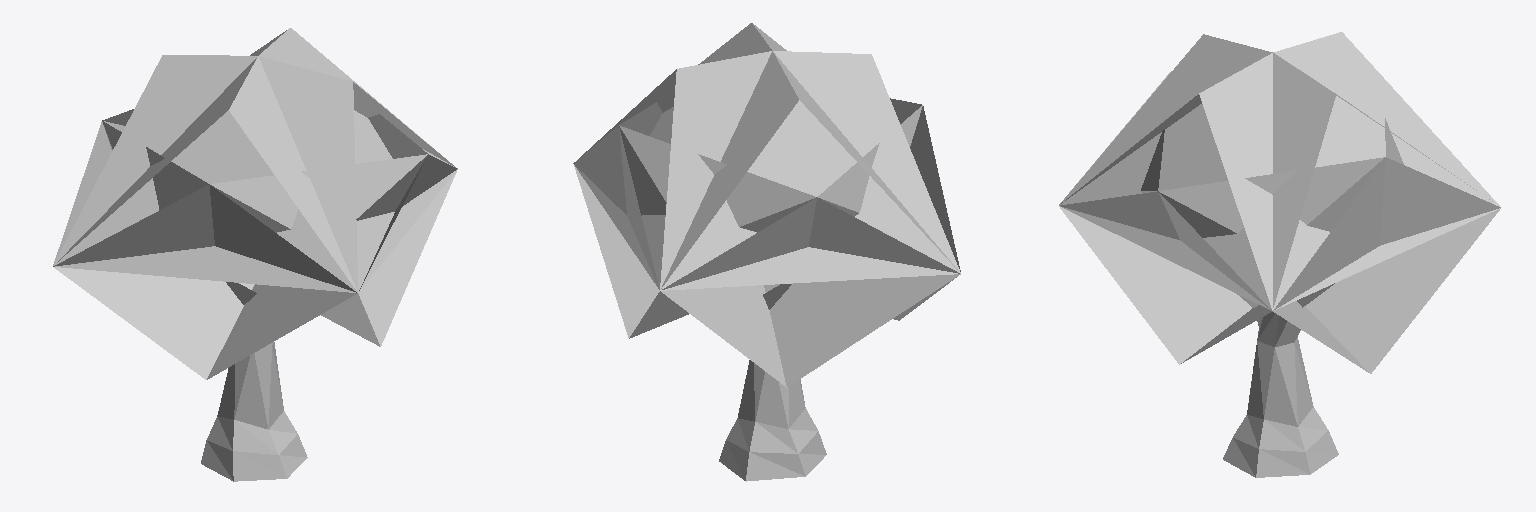
Rendered from elwynntreecanopy01.obj.
3 renders of one model, left to right at view 1: azimuth 30°, elevation 25°; view 2: azimuth 150°, elevation 25°; view 3: azimuth 270°, elevation 25°, orthographic.
Parts seen in each view (by area): view 1: object 1; view 2: object 1; view 3: object 1.
Boxes of the visible parts, x1,y1,x2,y2 form: object 1: [53, 28, 457, 481]; object 1: [573, 23, 960, 481]; object 1: [1059, 32, 1500, 477].
Size of the model in its own units: 65.31 by 63.84 by 63.21.